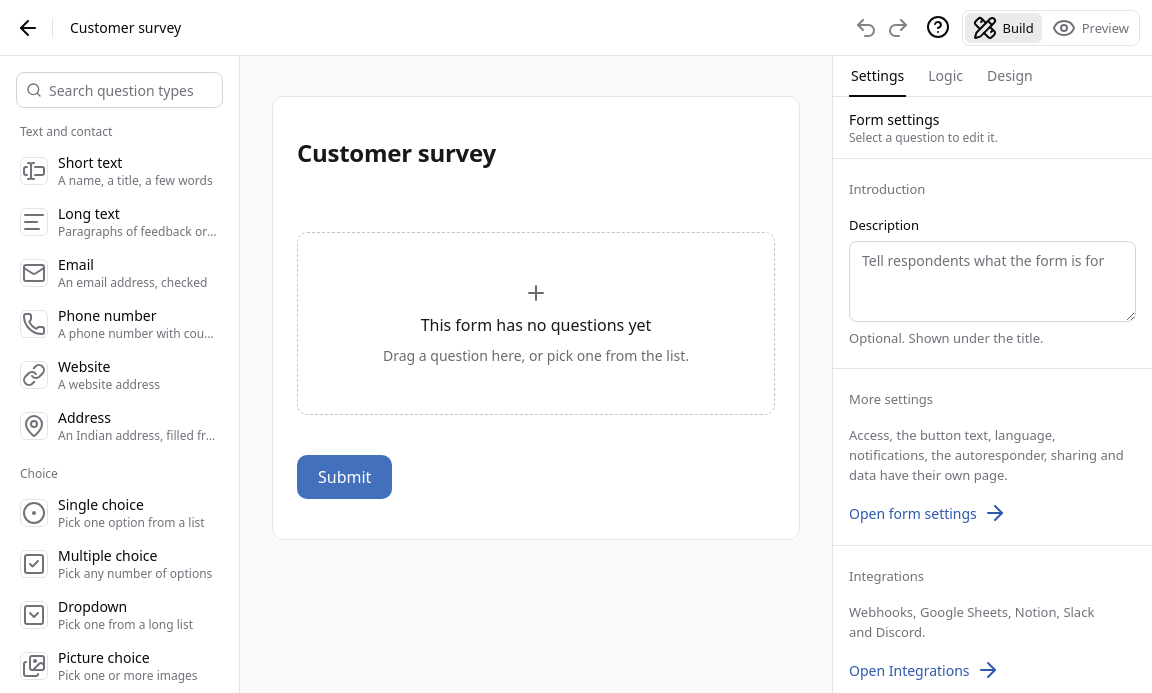
Test: EditorLayout › adds a question from the palette to the canvas, selected and ready to edit
Click the button with aria-label "Add email": (120,272) 12,248 -> 227,297
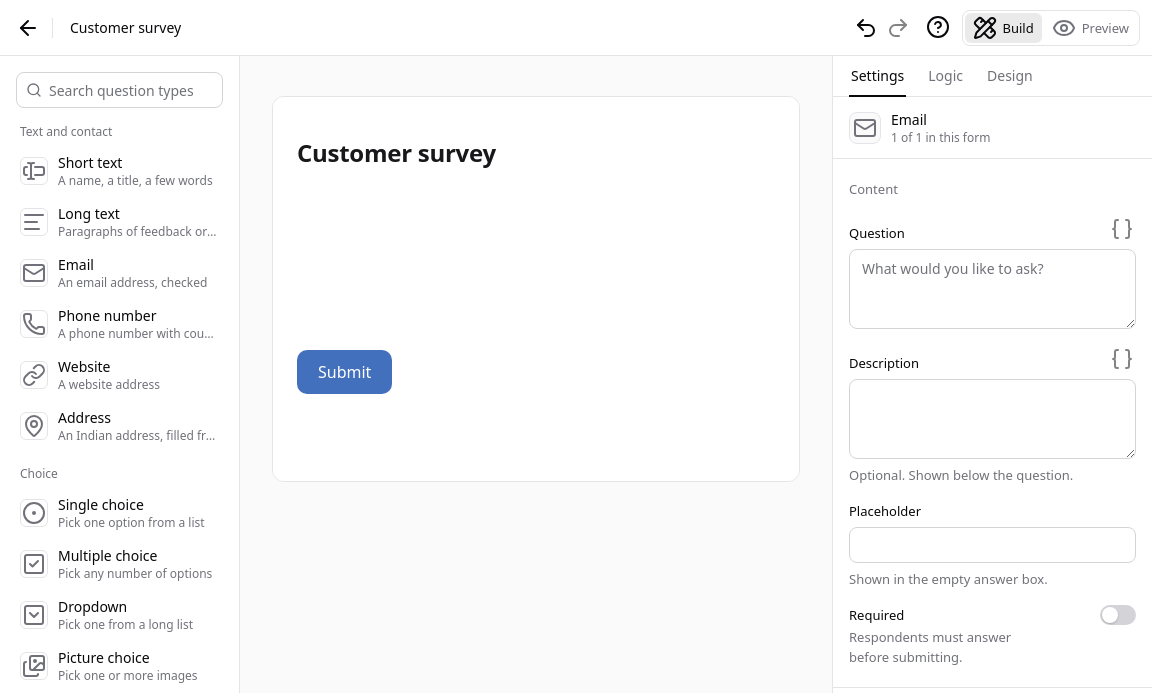
Now the heading "Email" is shown, box 891,110 -> 927,129
